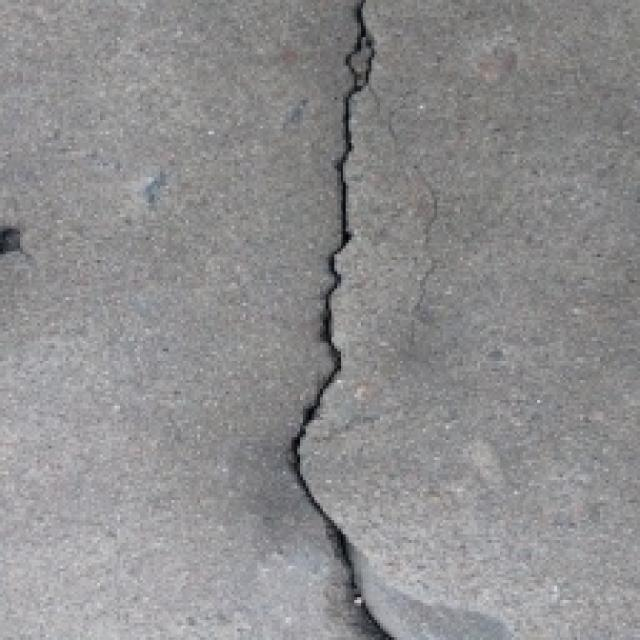crack: (260, 0, 416, 640)
